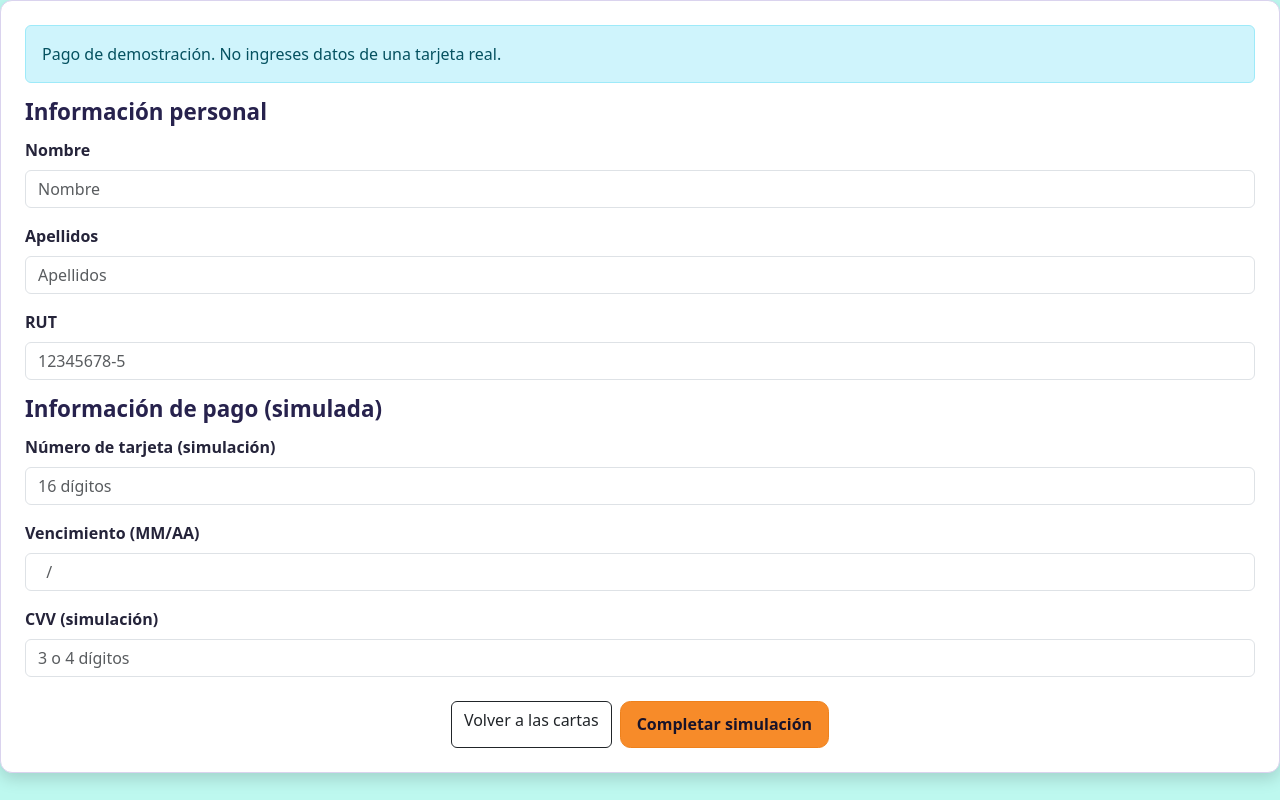
it: Organismo PaymentForm › muestra un aviso y errores cuando se envía vacío
Click the button "Completar simulación".
click(724, 724)  # box [620, 701, 829, 748]
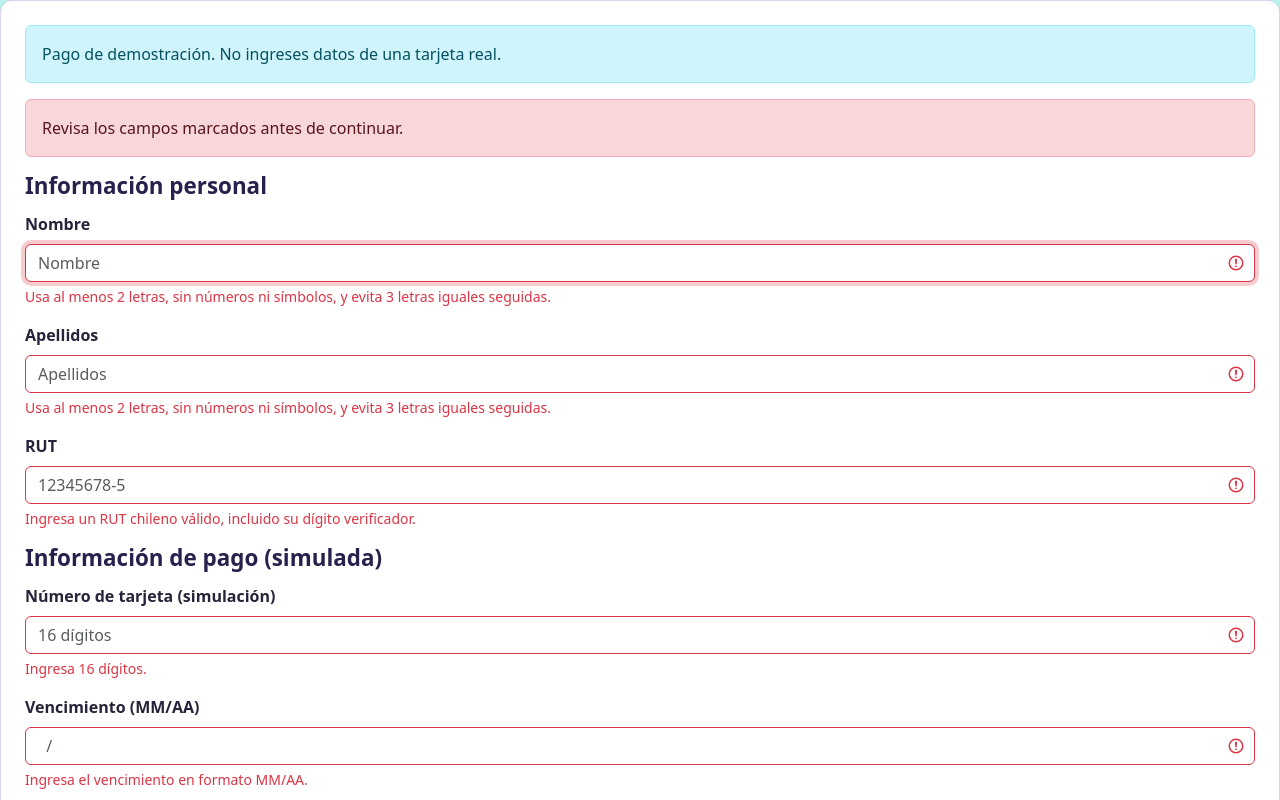
Now the text "Revisa los campos marcados antes de continuar." is shown, box [25, 99, 1255, 157]
Now the text "Usa al menos 2 letras" is shown 2 times, box [25, 287, 551, 306]; [25, 398, 551, 417]
